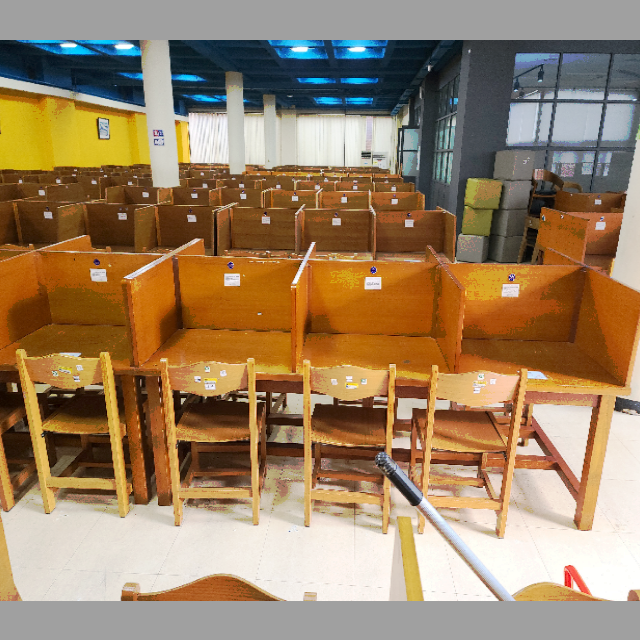empty: (301, 235, 461, 436), (466, 244, 629, 440), (130, 235, 293, 421)
